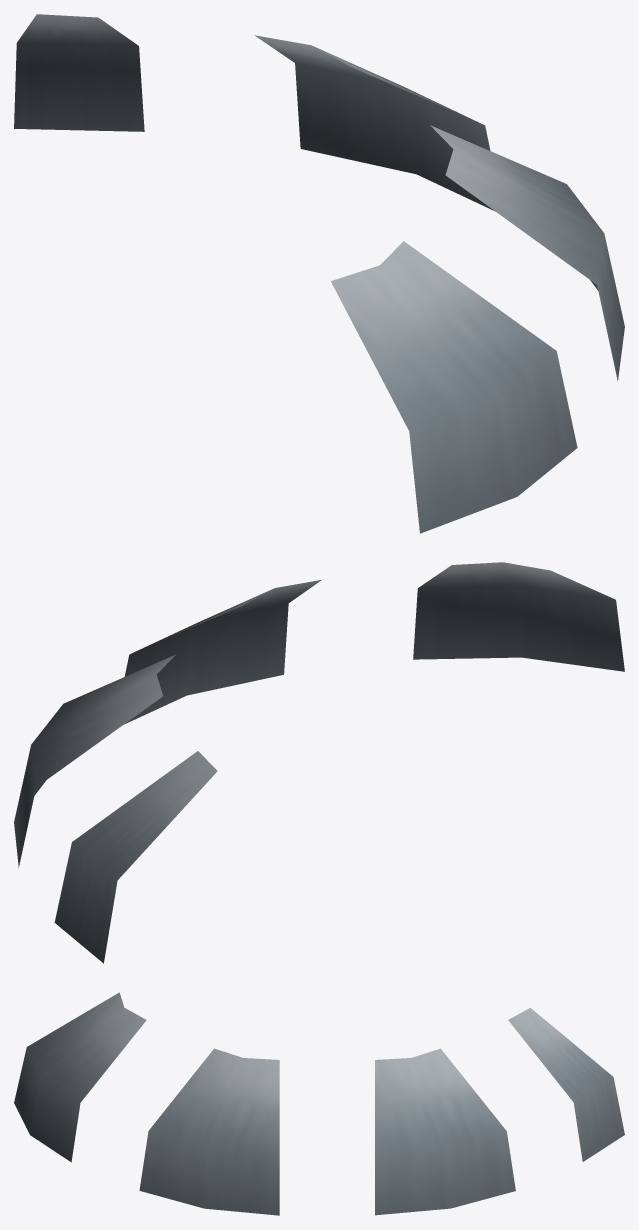
File: Cor1_bldg_Youngling_Room_windows.fbx
3 views of the same model, one above another, from view 1: azimuth 30°, elevation 25°; view 2: azimuth 150°, elevation 25°; view 3: azimuth 270°, elevation 25° (orthographic). The views are drawn at different scales.
Parts seen in each view (by area): view 1: outside_windows_old; view 2: outside_windows_old; view 3: outside_windows_old.
Part boxes in pixels (bbox=[...]): outside_windows_old: bbox=[14, 14, 624, 533]; outside_windows_old: bbox=[14, 562, 624, 963]; outside_windows_old: bbox=[14, 992, 624, 1215].
Size of the model in its own units: 9.97 by 4.57 by 22.86.
